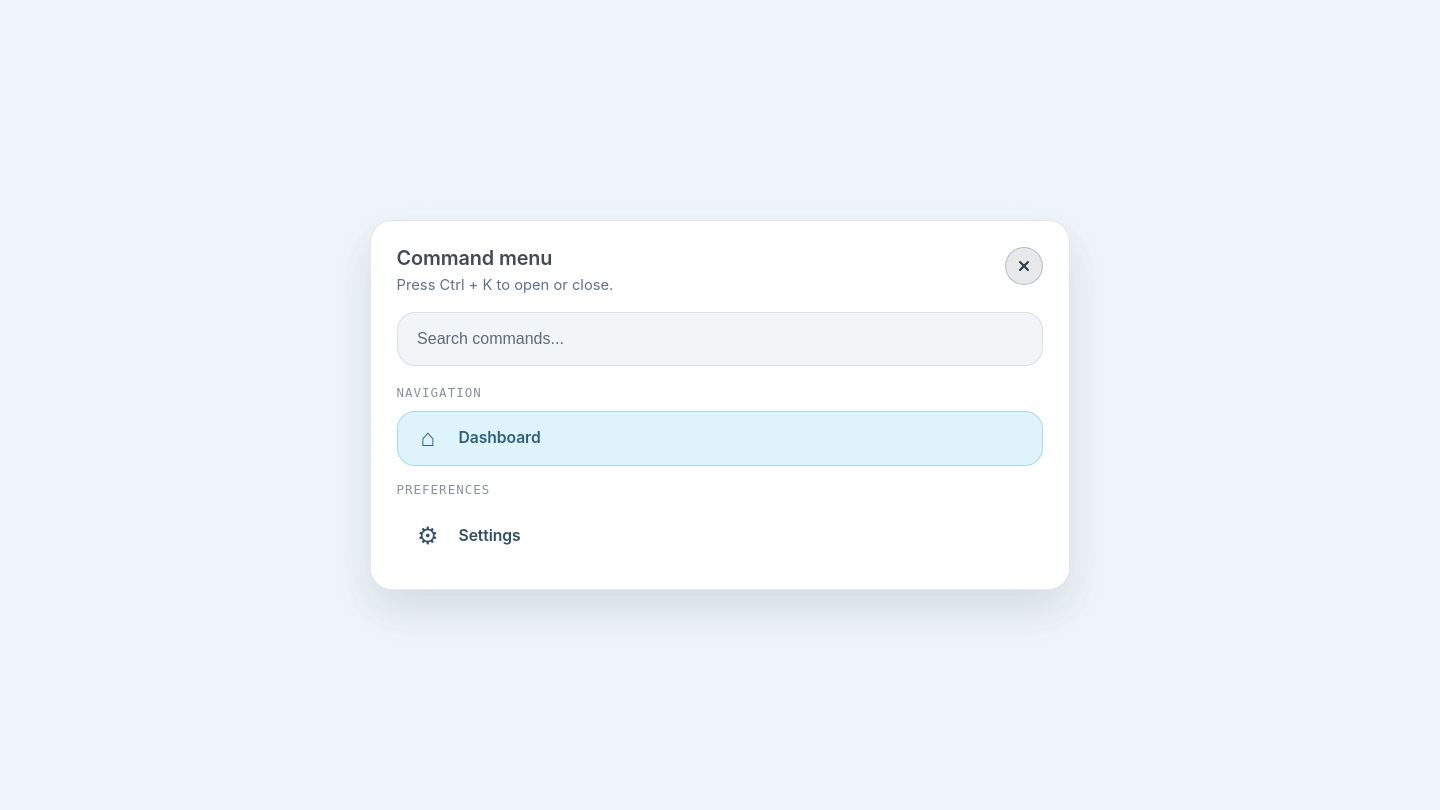
CommandPalette › filters items from the search input
Type "sett" into the dropdown with placeholder "Search commands..." at {"x": 720, "y": 339}, box x1=397 y1=312 x2=1043 y2=366
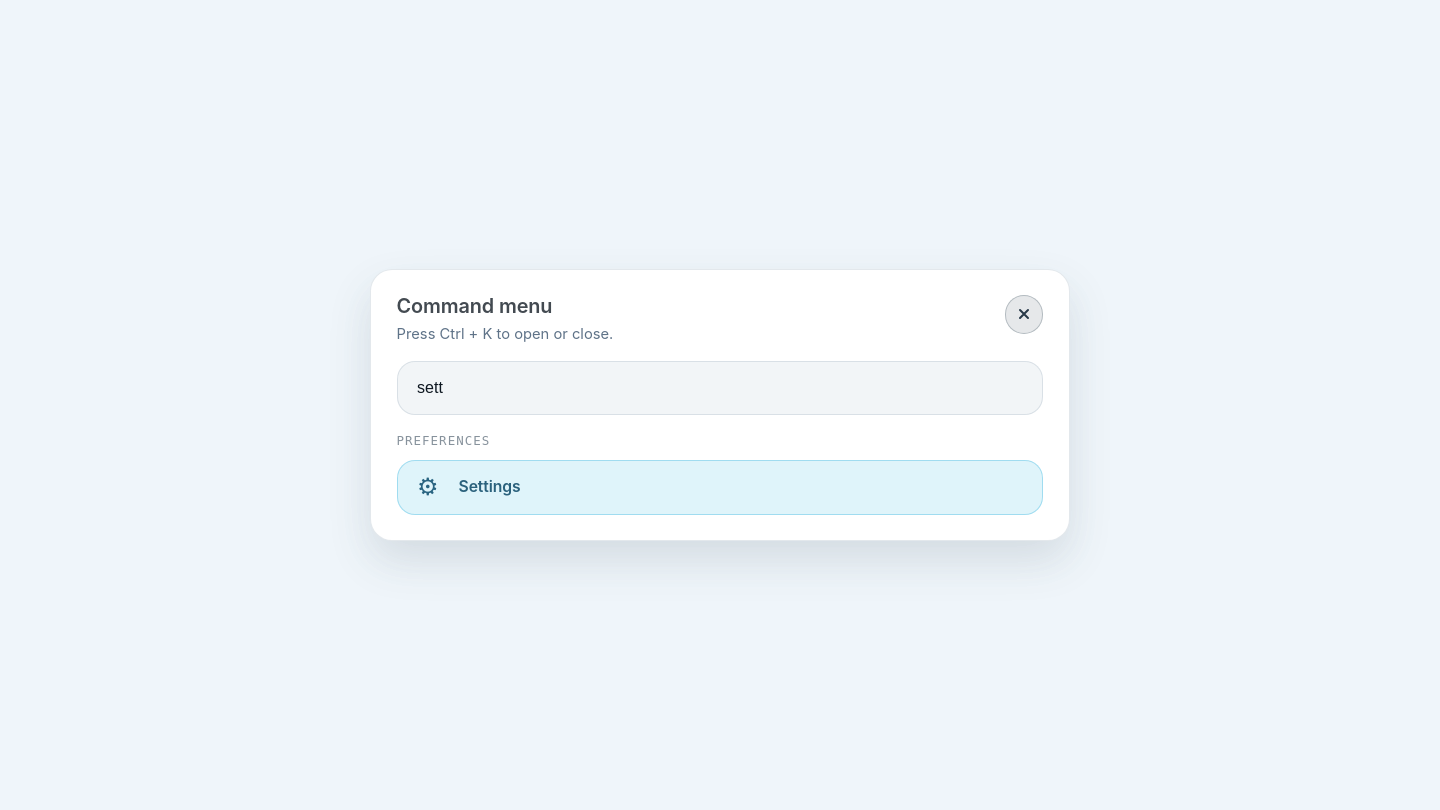
Expected: the text "Settings" is shown, x1=458 y1=478 x2=520 y2=496
Expected: the option "Dashboard" is gone
